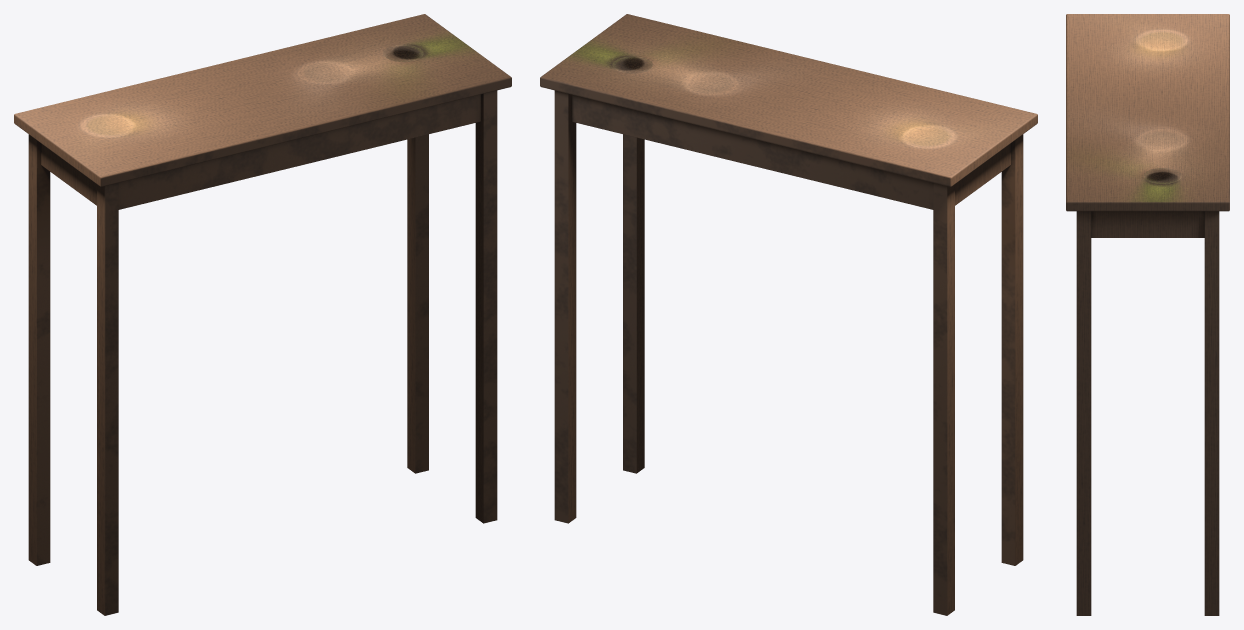
File: 817_comp.glb
3 renders of one model, left to right at view 1: azimuth 30°, elevation 25°; view 2: azimuth 150°, elevation 25°; view 3: azimuth 270°, elevation 25°, orthographic. The views are drawn at different scales.
Parts seen in each view (by area): view 1: Table; view 2: Table; view 3: Table.
Boxes of the visible parts, x1,y1,x2,y2 form: Table: (14, 14, 511, 615); Table: (540, 14, 1037, 615); Table: (1066, 14, 1229, 615).
Size of what is drawn, in the model's own units: 3 by 3.1 by 1.1.
1 material, 1 textured.
